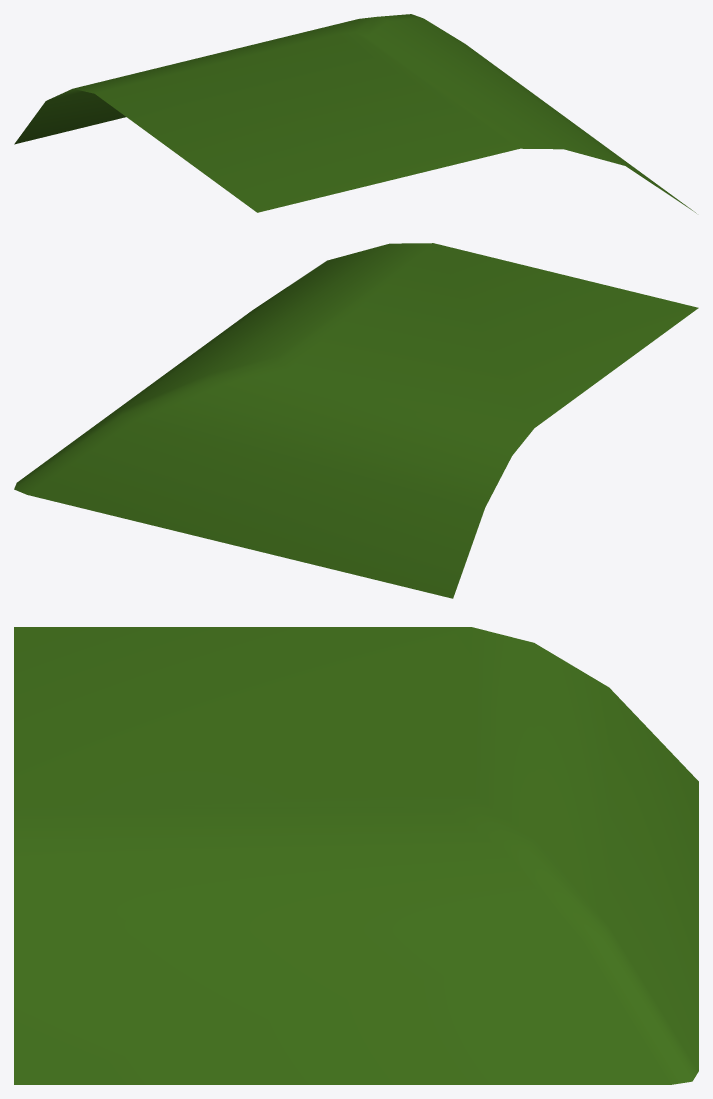
Rendered from Ground1_5.fbx.
3 views of the same model, one above another, from view 1: azimuth 30°, elevation 25°; view 2: azimuth 150°, elevation 25°; view 3: azimuth 270°, elevation 25° (orthographic). The views are drawn at different scales.
Parts seen in each view (by area): view 1: Ground1_5; view 2: Ground1_5; view 3: Ground1_5.
Part boxes in pixels (bbox=[...]): Ground1_5: bbox=[14, 14, 696, 213]; Ground1_5: bbox=[14, 243, 698, 598]; Ground1_5: bbox=[14, 627, 698, 1084].
Size of the model in its own units: 546 by 130 by 522.
